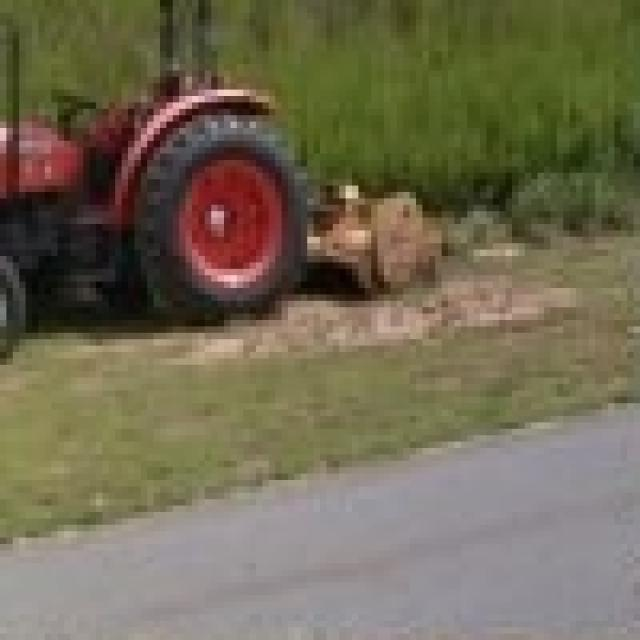Tratores - v5 YOLO V8L 2024-11-13: (0, 38, 310, 371)
